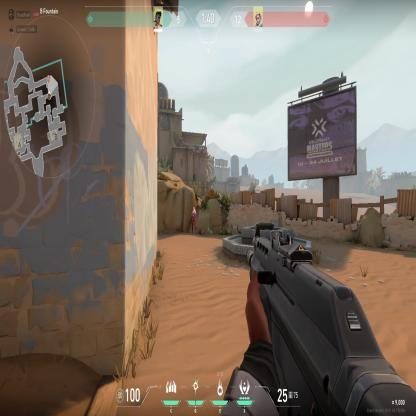enemy: (190, 204, 197, 235)
